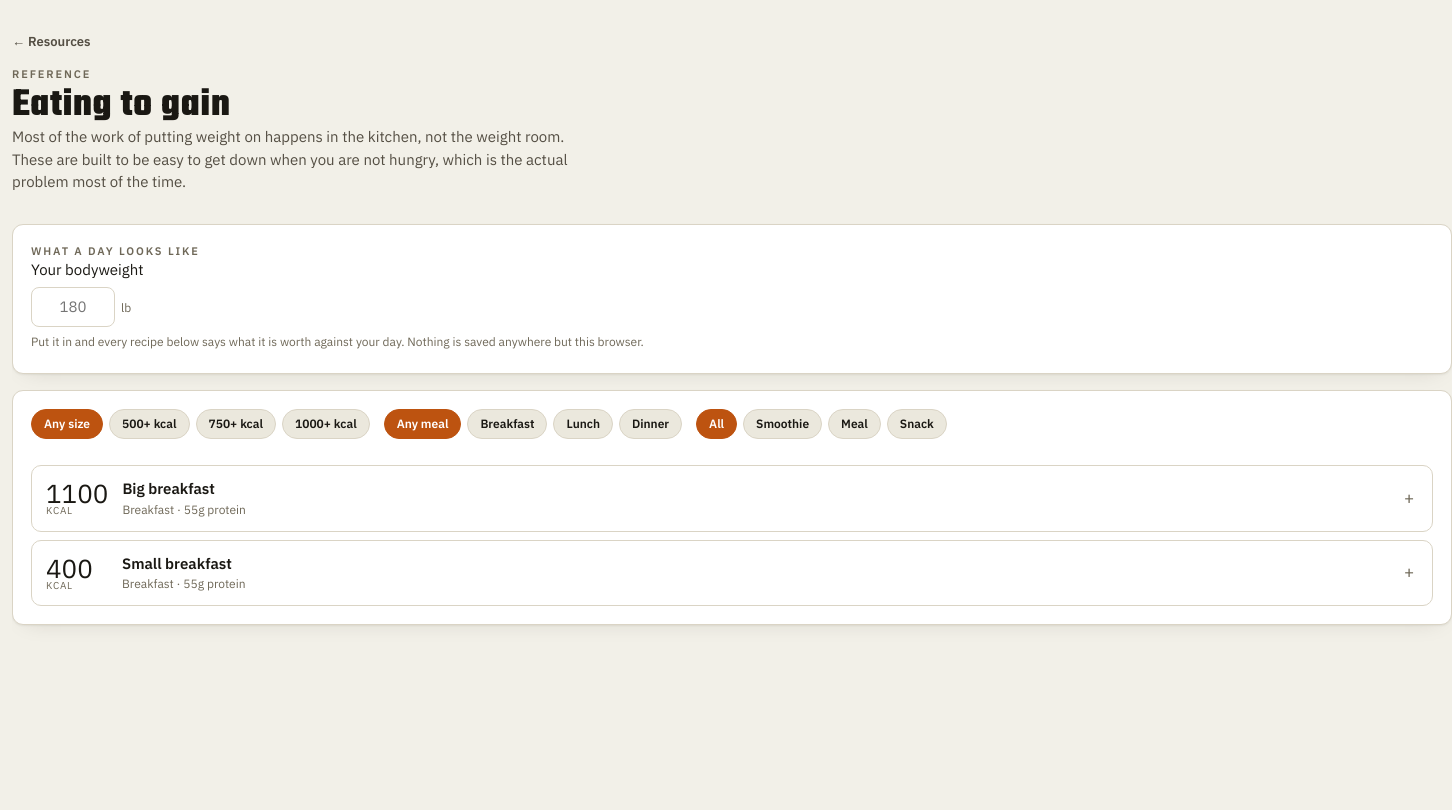
it: meal and calorie filters narrow together
Step 1. Click the button "Breakfast" → (507,424), box [467,409,548,439]
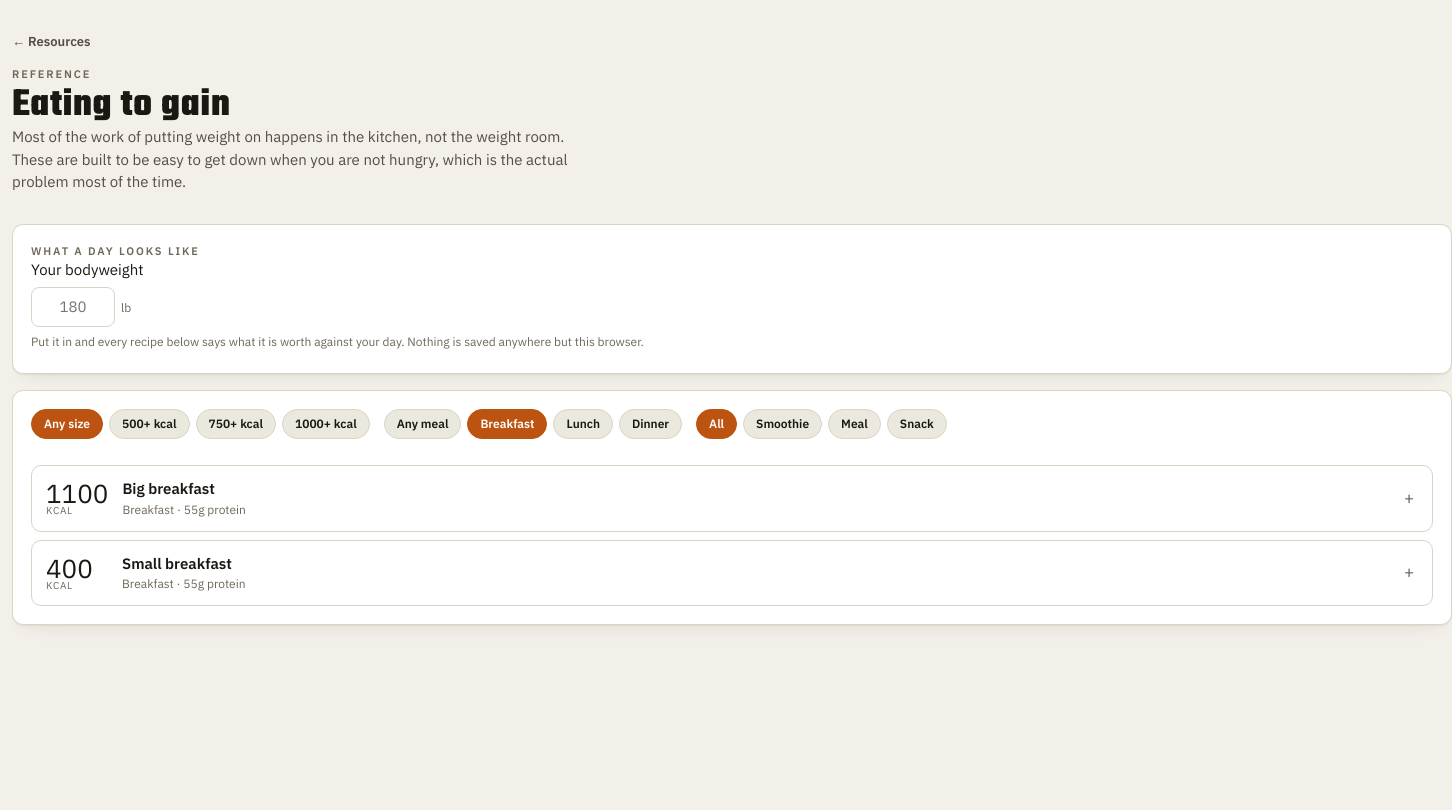
Step 2. Click the button "1000+ kcal" → (326,424), box [282,409,370,439]
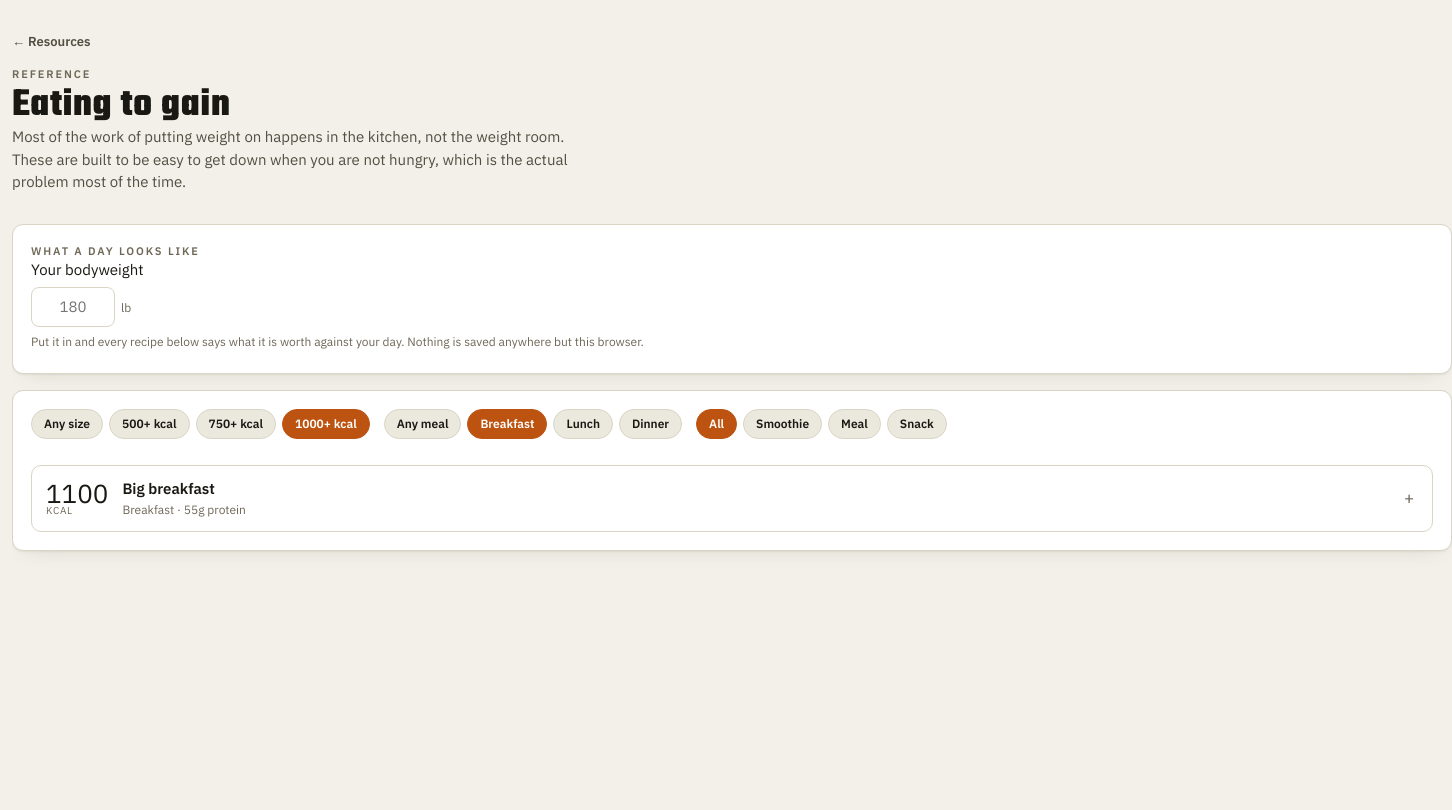
Expected: the text "Big breakfast" is shown, [122,479,215,498]
Expected: the button "Small breakfast" is gone
